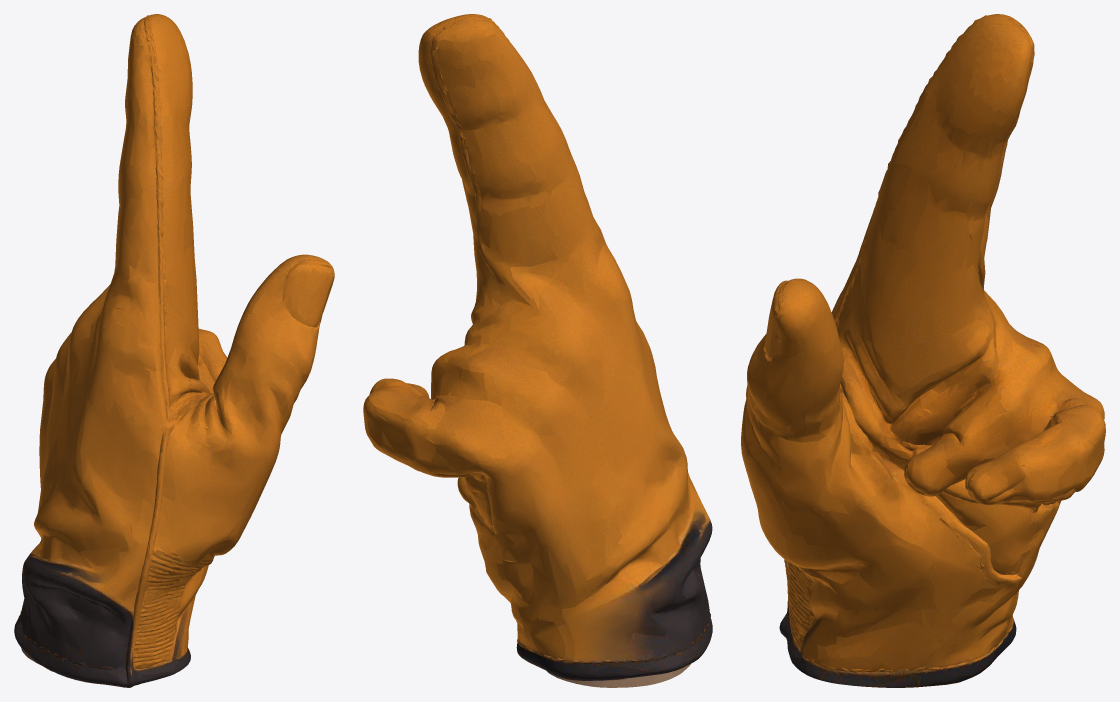
The model's file is fingertip.glb.
The picture shows the model from 3 angles, left to right: view 1: azimuth 30°, elevation 25°; view 2: azimuth 150°, elevation 25°; view 3: azimuth 270°, elevation 25°; orthographic projection. The views are drawn at different scales.
Parts seen in each view (by area): view 1: fingertip; view 2: fingertip; view 3: fingertip.
Boxes of the visible parts, x1,y1,x2,y2 form: fingertip: [14, 14, 334, 687]; fingertip: [363, 14, 712, 687]; fingertip: [741, 14, 1105, 687].
Size of the model in its own units: 0.1949 by 0.4216 by 0.2036.
Materials: 1 (1 with a texture image).
